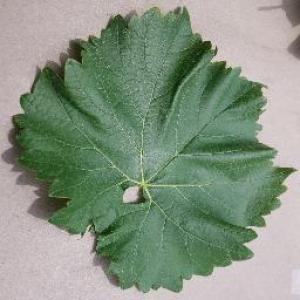Folha: (10, 3, 298, 293)
